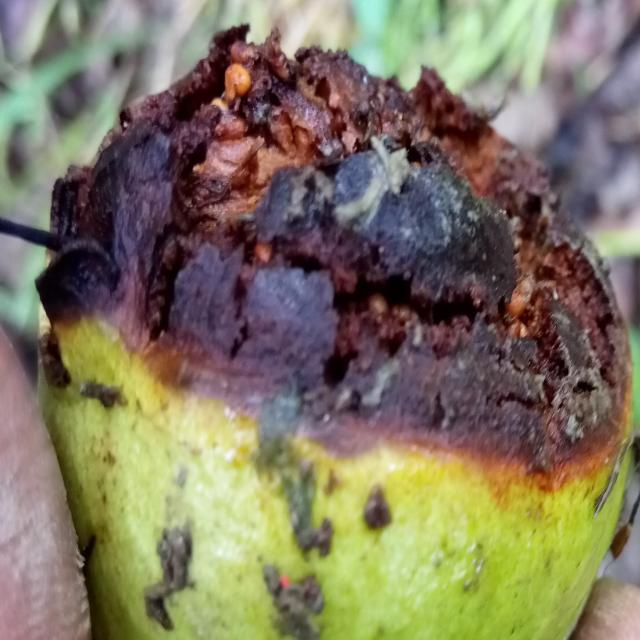Phytopthora: (38, 26, 630, 636)
